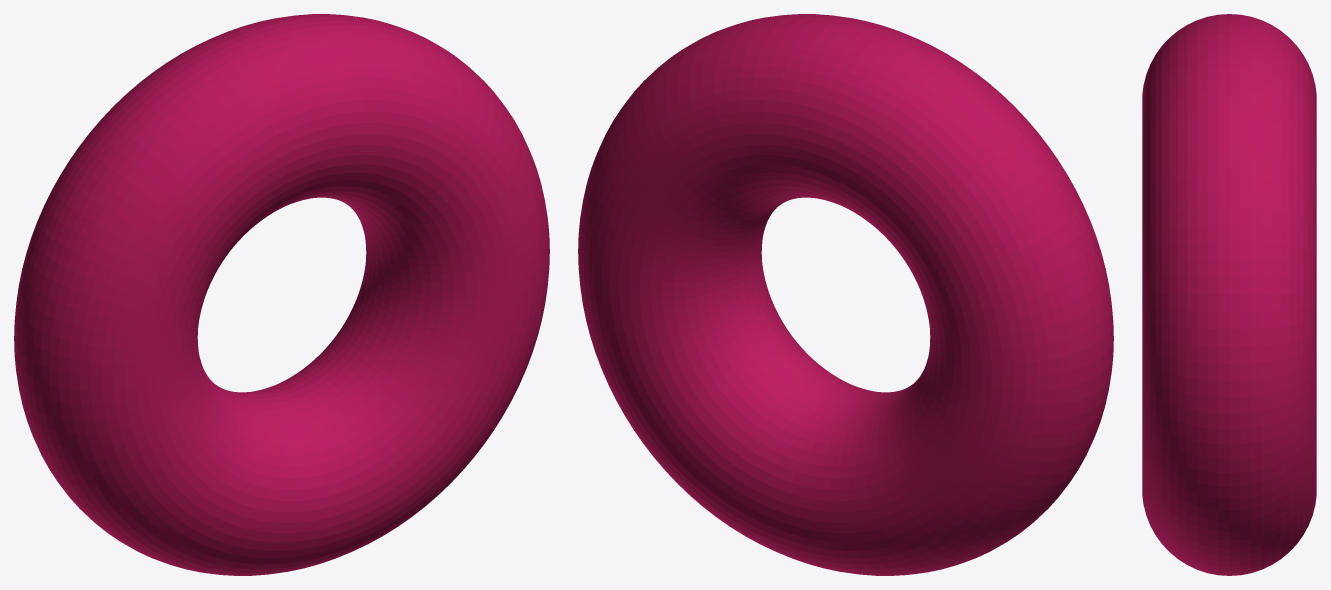
The picture shows the model from 3 angles, left to right: view 1: azimuth 30°, elevation 25°; view 2: azimuth 150°, elevation 25°; view 3: azimuth 270°, elevation 25°; orthographic projection. The views are drawn at different scales.
Parts seen in each view (by area): view 1: world; view 2: world; view 3: world.
Boxes of the visible parts, x1,y1,x2,y2 form: world: (14, 14, 549, 575); world: (578, 14, 1113, 575); world: (1142, 14, 1316, 575).
Bounding box in the file's own units: 26.13 × 26.13 × 8.12.
